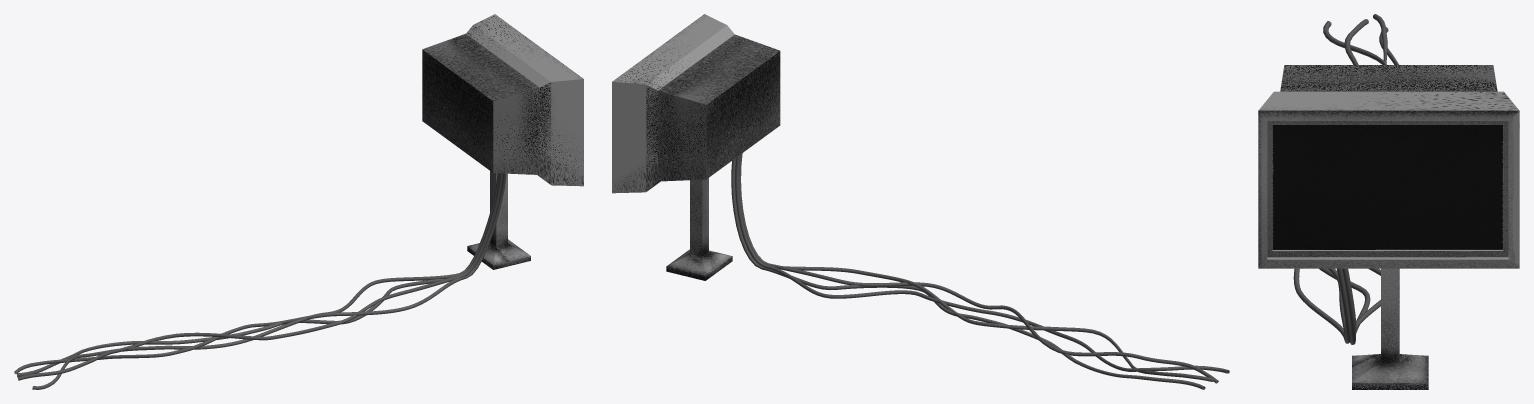
File: monik_with_text.fbx
3 views of the same model, side by side, from view 1: azimuth 30°, elevation 25°; view 2: azimuth 150°, elevation 25°; view 3: azimuth 270°, elevation 25° (orthographic). The views are drawn at different scales.
Parts seen in each view (by area): view 1: monitor.002; view 2: monitor.002; view 3: monitor.002.
Boxes of the visible parts, x1,y1,x2,y2 form: monitor.002: (14, 14, 583, 389); monitor.002: (612, 14, 1229, 389); monitor.002: (1258, 14, 1519, 389).
Size of the model in its own units: 486 by 1674 by 610.
